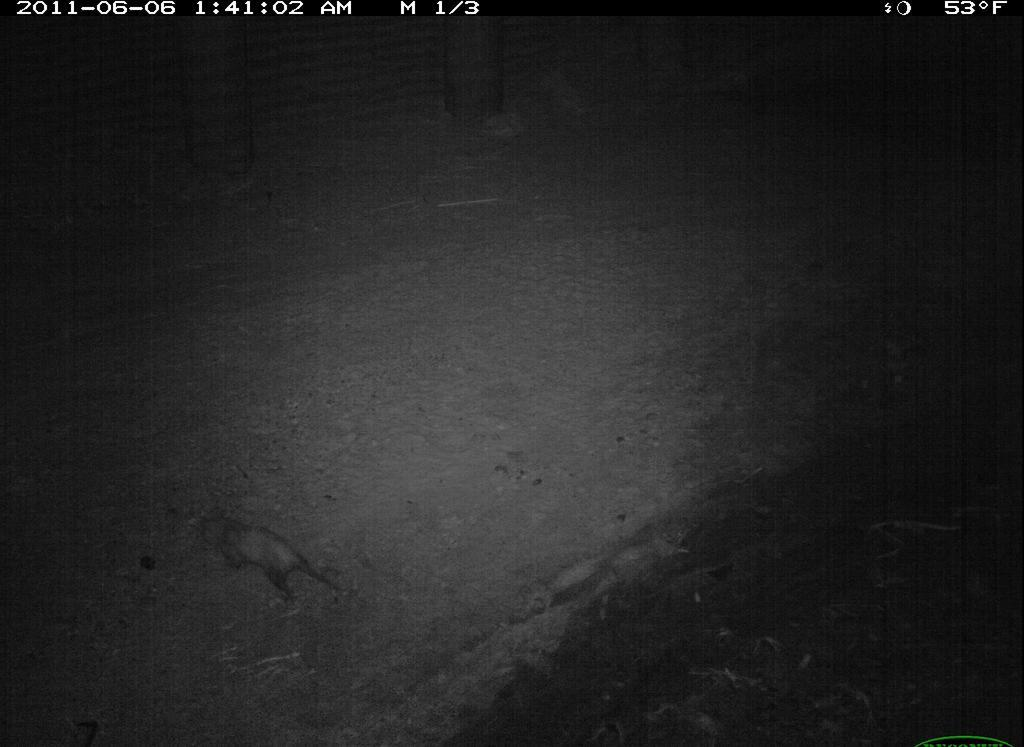opossum: (178, 506, 355, 612)
